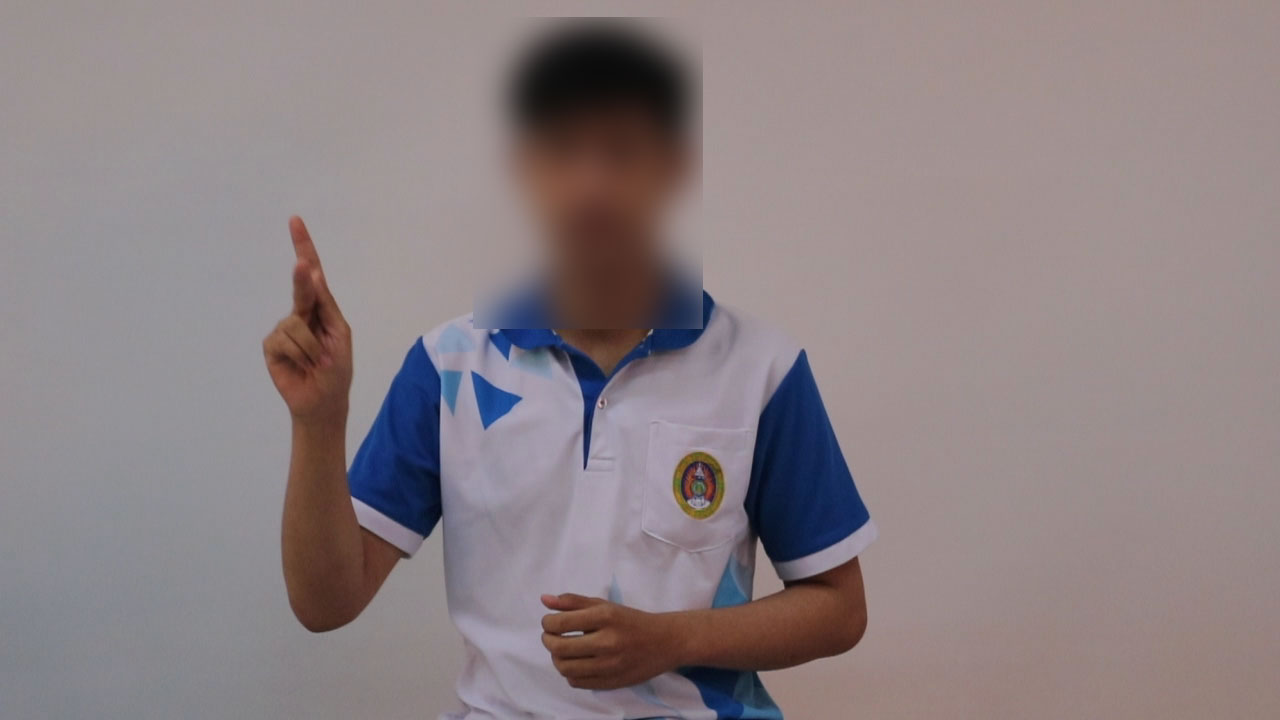ko: (216, 204, 395, 426)
